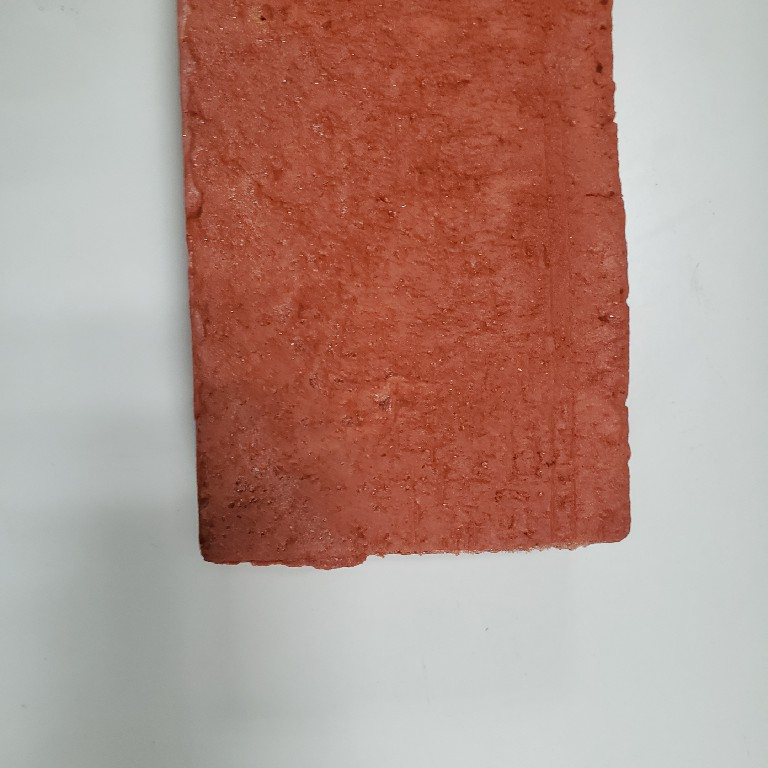brick: (171, 1, 641, 578)
